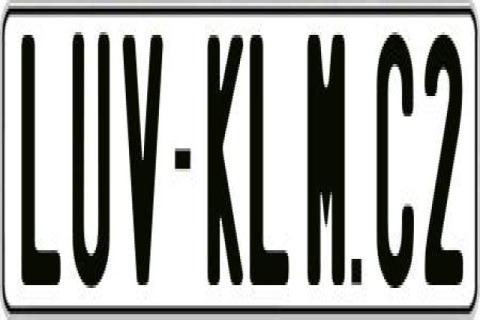0: (424, 27, 468, 280)
C: (376, 29, 414, 282)
K: (206, 32, 247, 291)
L: (250, 26, 296, 282), (22, 29, 64, 291)
M: (304, 29, 348, 288)
U: (69, 29, 113, 288)
V: (120, 35, 166, 297)
